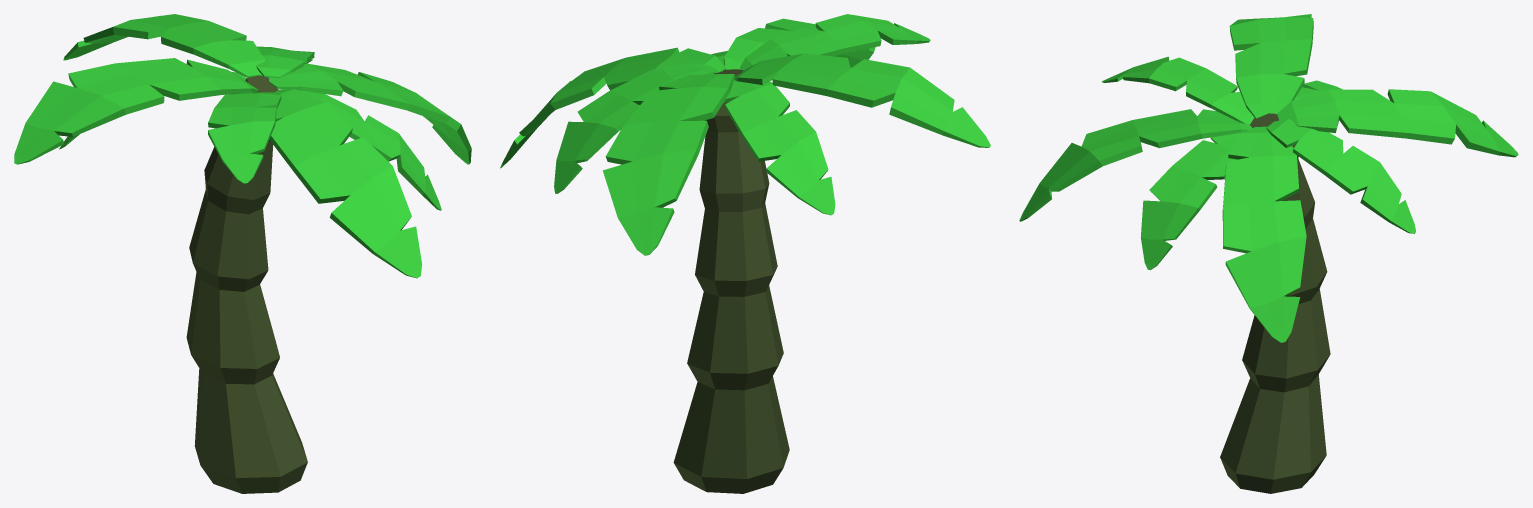
Rendered from palm_import.fbx.
3 renders of one model, left to right at view 1: azimuth 30°, elevation 25°; view 2: azimuth 150°, elevation 25°; view 3: azimuth 270°, elevation 25°, orthographic. The views are drawn at different scales.
Visible parts, largest first — view 1: Trunck, Leave_02, Leave_03, Leave_01, Leave_04, Leave_07, Leave_06, Leave_08; view 2: Trunck, Leave_01, Leave_03, Leave_05, Leave_08, Leave_07, Leave_04, Leave_02; view 3: Trunck, Leave_04, Leave_01, Leave_02, Leave_03, Leave_06, Leave_08, Leave_07.
Boxes of the visible parts, <box> form: Trunck: <box>186,75,307,493</box>; Leave_02: <box>269,89,422,278</box>; Leave_03: <box>14,58,258,164</box>; Leave_01: <box>63,14,264,77</box>; Leave_04: <box>268,63,471,164</box>; Leave_07: <box>208,92,281,183</box>; Leave_06: <box>279,89,441,210</box>; Leave_08: <box>256,46,314,78</box>; Trunck: <box>673,69,789,493</box>; Leave_01: <box>602,74,734,255</box>; Leave_03: <box>734,53,990,147</box>; Leave_05: <box>723,79,835,215</box>; Leave_08: <box>554,63,717,193</box>; Leave_07: <box>740,14,930,70</box>; Leave_04: <box>500,47,725,168</box>; Leave_02: <box>724,18,875,69</box>; Trunck: <box>1220,113,1330,493</box>; Leave_04: <box>1222,126,1306,342</box>; Leave_01: <box>1277,89,1518,157</box>; Leave_02: <box>1019,109,1252,221</box>; Leave_03: <box>1229,14,1313,118</box>; Leave_06: <box>1140,132,1242,270</box>; Leave_08: <box>1266,119,1415,233</box>; Leave_07: <box>1102,56,1254,124</box>.
Size of the model in its own units: 1128 by 982 by 1153.
